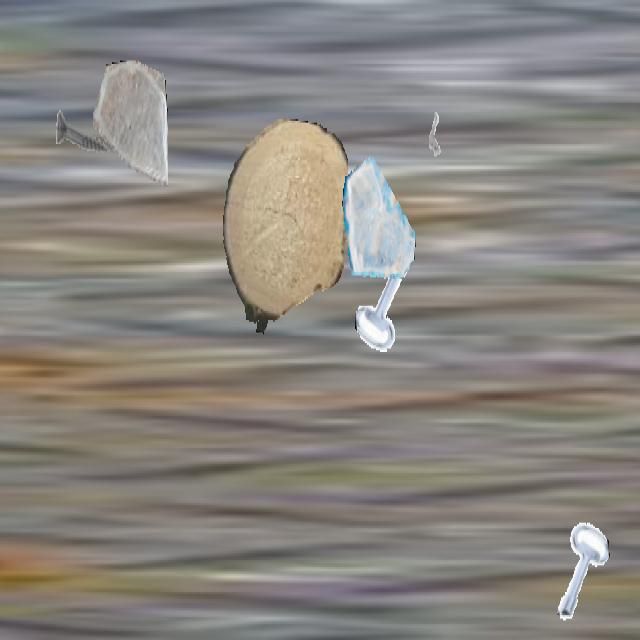glass: (93, 60, 167, 192), (342, 151, 416, 283)
metal: (54, 76, 116, 186), (355, 247, 417, 357), (550, 516, 610, 622), (416, 92, 454, 160)
wood: (223, 119, 347, 336)
